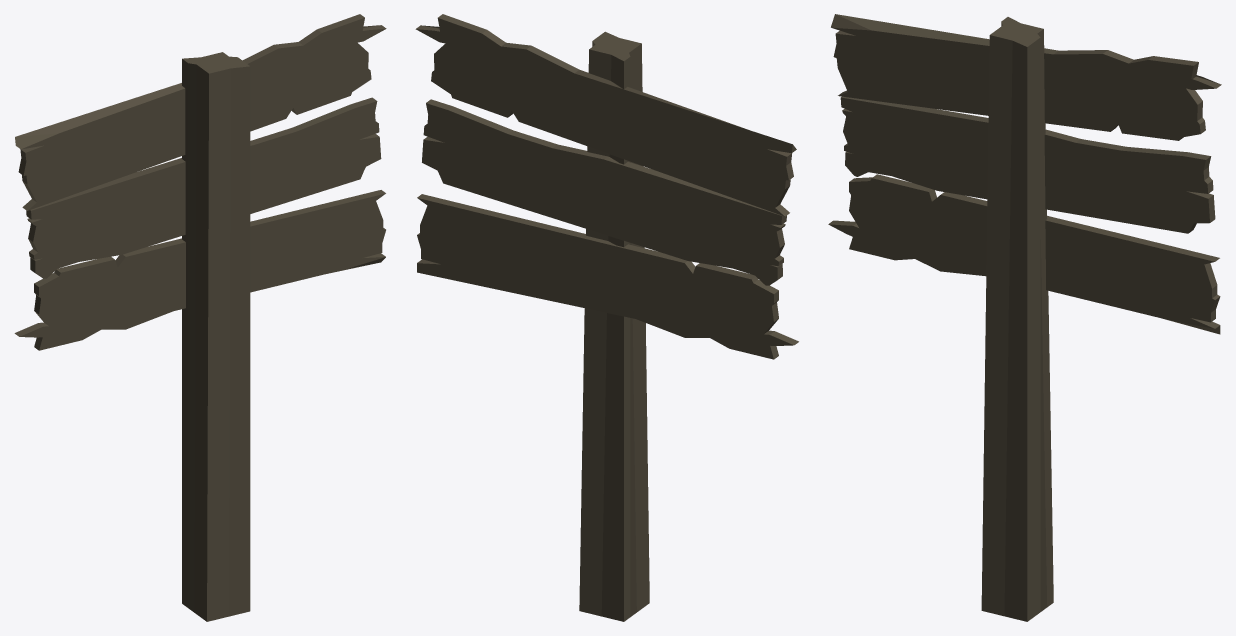
File: dustysign.fbx
3 renders of one model, left to right at view 1: azimuth 30°, elevation 25°; view 2: azimuth 150°, elevation 25°; view 3: azimuth 330°, elevation 25°, orthographic. The views are drawn at different scales.
Visible parts, largest first — view 1: Cube; view 2: Cube; view 3: Cube.
Part boxes in pixels (x1,y1,x2,y2): Cube: (14, 14, 386, 621); Cube: (415, 14, 798, 621); Cube: (828, 14, 1221, 621).
Bounding box in the file's own units: 212 × 300 × 26.52.
